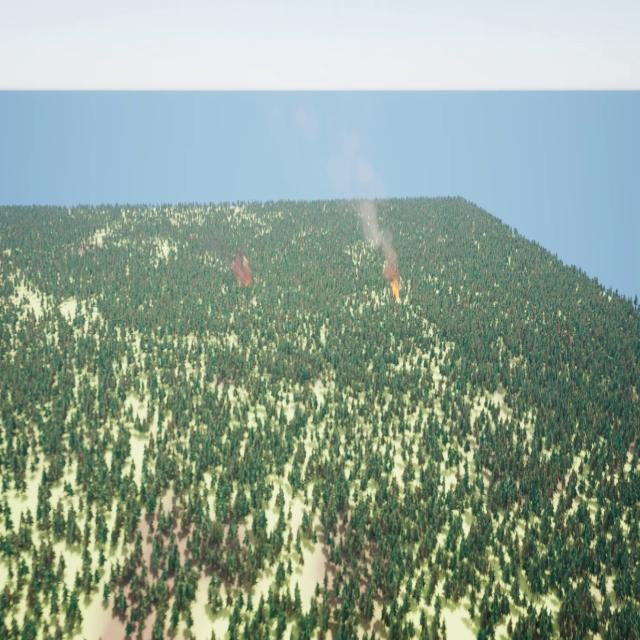fire: (391, 279, 405, 307)
smoke: (321, 118, 402, 285), (233, 256, 256, 293)
